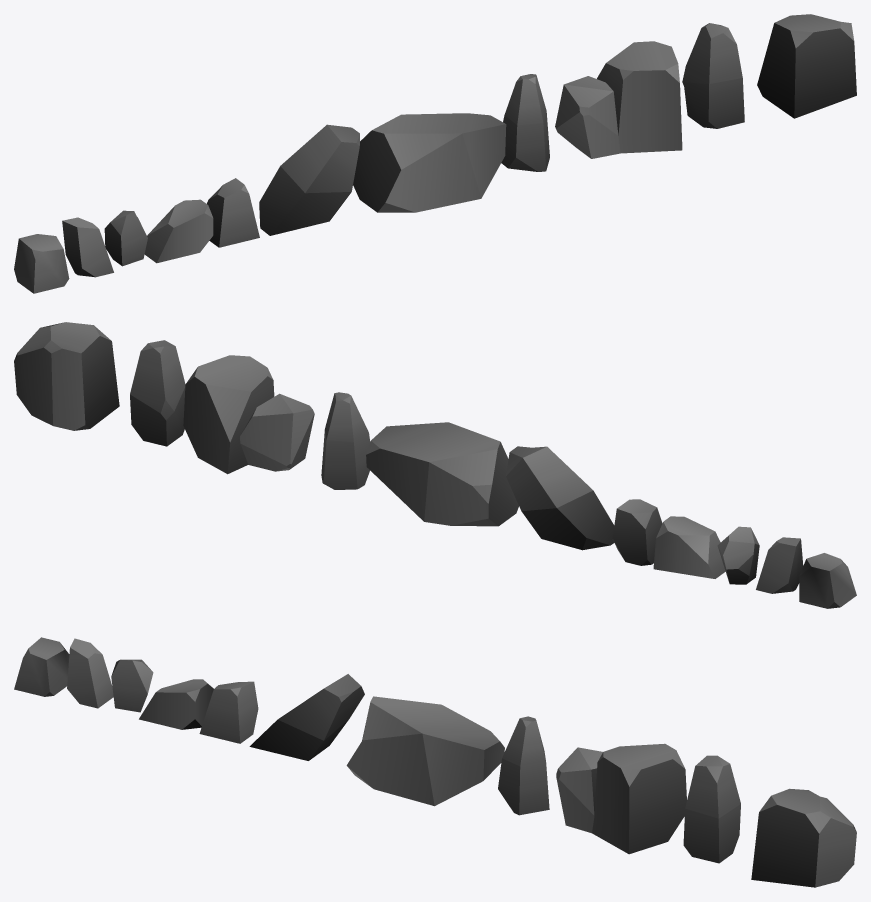
Rendered from Batu abu.fbx.
3 renders of one model, top to bottom at view 1: azimuth 30°, elevation 25°; view 2: azimuth 150°, elevation 25°; view 3: azimuth 330°, elevation 25°, orthographic.
Visible parts, largest first — view 1: Cube.027, Cube.025, Cube.024, Cube.033, Cube.023, Cube.026, Cube.029, Cube.032, Cube.028, Cube.031, Cube.030; view 2: Cube.027, Cube.025, Cube.024, Cube.033, Cube.023, Cube.026, Cube.029, Cube.028, Cube.032, Cube.031, Cube.030; view 3: Cube.027, Cube.025, Cube.024, Cube.023, Cube.033, Cube.026, Cube.028, Cube.029, Cube.032, Cube.031, Cube.030.
Boxes of the visible parts, <box> form: Cube.027: <box>353,113,506,212</box>; Cube.025: <box>555,41,682,158</box>; Cube.024: <box>757,14,856,118</box>; Cube.033: <box>259,124,359,235</box>; Cube.023: <box>682,23,744,128</box>; Cube.026: <box>501,74,549,171</box>; Cube.029: <box>144,199,213,263</box>; Cube.032: <box>14,234,69,293</box>; Cube.028: <box>207,178,259,247</box>; Cube.031: <box>62,217,113,277</box>; Cube.030: <box>104,210,147,266</box>; Cube.027: <box>366,422,518,526</box>; Cube.025: <box>183,355,314,474</box>; Cube.024: <box>14,322,119,430</box>; Cube.033: <box>506,446,614,550</box>; Cube.023: <box>130,340,185,446</box>; Cube.026: <box>321,392,370,489</box>; Cube.029: <box>653,516,725,578</box>; Cube.028: <box>612,499,662,565</box>; Cube.032: <box>799,553,856,608</box>; Cube.031: <box>756,537,803,593</box>; Cube.030: <box>717,526,759,584</box>; Cube.027: <box>346,696,504,806</box>; Cube.025: <box>556,743,686,854</box>; Cube.024: <box>751,788,856,887</box>; Cube.023: <box>683,755,740,863</box>; Cube.033: <box>249,674,364,760</box>; Cube.026: <box>498,716,549,815</box>; Cube.028: <box>199,681,258,743</box>; Cube.029: <box>139,679,213,729</box>; Cube.032: <box>14,637,69,696</box>; Cube.031: <box>67,638,113,708</box>; Cube.030: <box>111,659,153,712</box>.
Bounding box in the file's own units: 2049 × 221 × 221.
